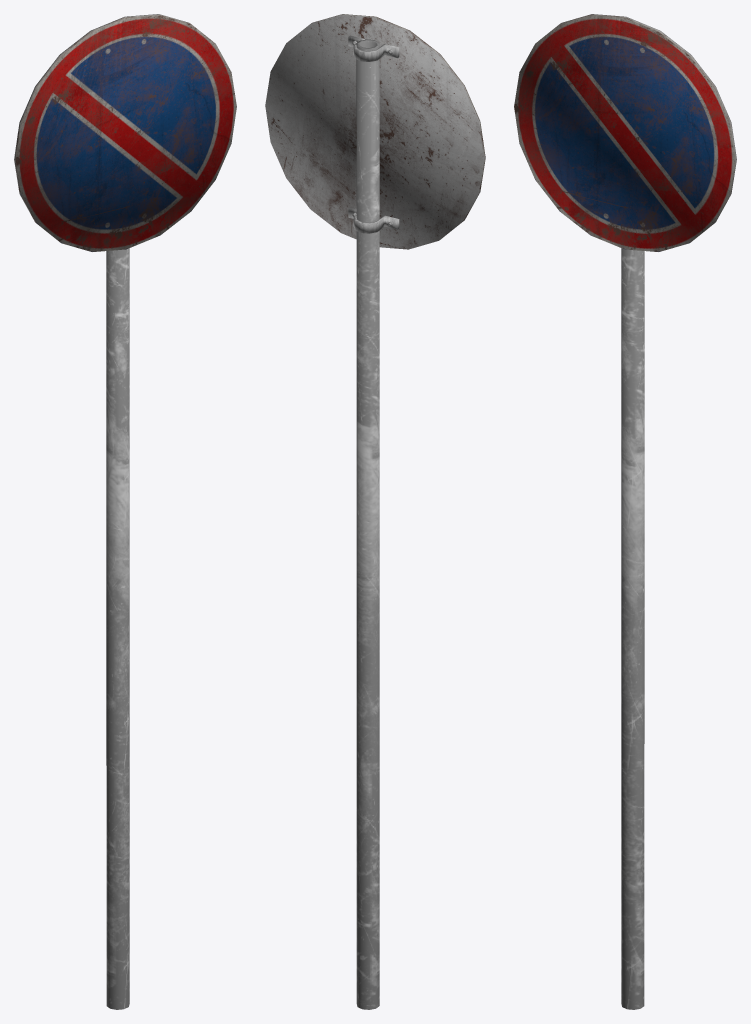
File: street_no_waiting.fbx
The picture shows the model from 3 angles, left to right: view 1: azimuth 30°, elevation 25°; view 2: azimuth 150°, elevation 25°; view 3: azimuth 330°, elevation 25°; orthographic projection.
Parts seen in each view (by area): view 1: street_no_waiting; view 2: street_no_waiting; view 3: street_no_waiting.
Boxes of the visible parts, left/top/right/bottom form: street_no_waiting: left=14, top=14, right=236, bottom=1009; street_no_waiting: left=265, top=14, right=485, bottom=1009; street_no_waiting: left=514, top=14, right=736, bottom=1009.
Size of the model in its own units: 1.41 by 6.04 by 0.1749.
4 materials, 4 textured.
